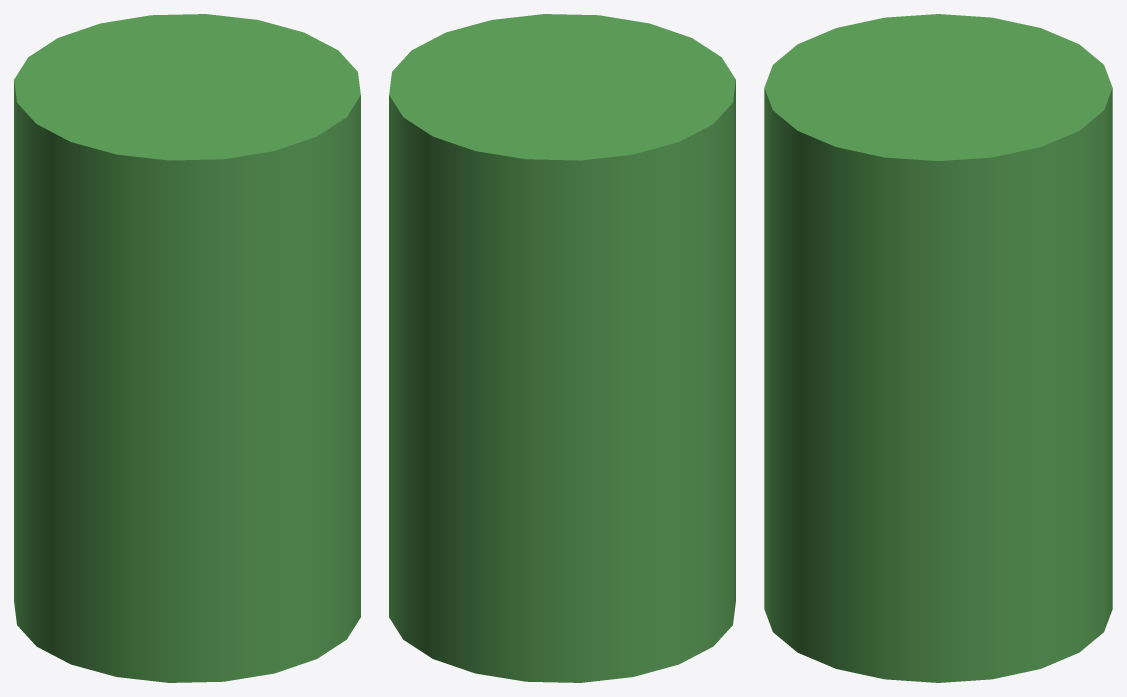
Rendered from Walk.fbx.
The picture shows the model from 3 angles, left to right: view 1: azimuth 30°, elevation 25°; view 2: azimuth 150°, elevation 25°; view 3: azimuth 270°, elevation 25°; orthographic projection.
Parts seen in each view (by area): view 1: pCylinder1; view 2: pCylinder1; view 3: pCylinder1.
Boxes of the visible parts, <box> form: pCylinder1: <box>14,14,360,682</box>; pCylinder1: <box>389,14,735,682</box>; pCylinder1: <box>764,14,1112,682</box>.
Bounding box in the file's own units: 6.93 × 11.46 × 6.93.
